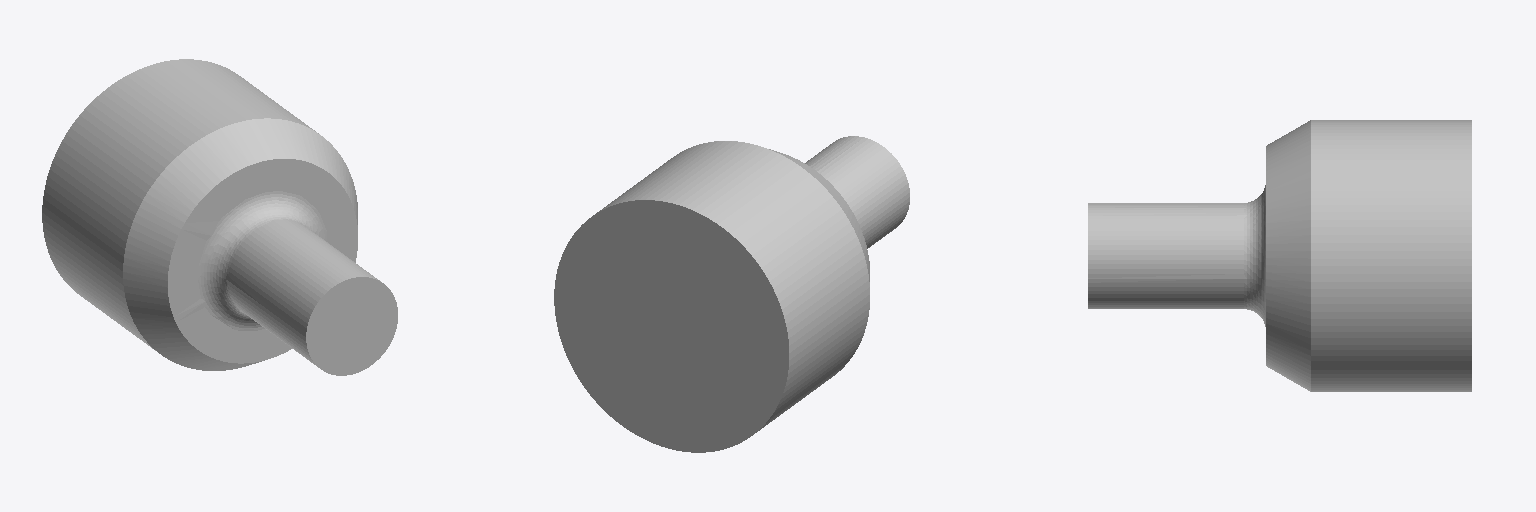
File: bulb.obj
The picture shows the model from 3 angles: view 1: azimuth 30°, elevation 25°; view 2: azimuth 150°, elevation 25°; view 3: azimuth 270°, elevation 25°; orthographic projection.
Visible parts, largest first — view 1: Object.1; view 2: Object.1; view 3: Object.1.
Boxes of the visible parts, x1,y1,x2,y2 form: Object.1: [42, 59, 397, 375]; Object.1: [554, 136, 909, 452]; Object.1: [1088, 120, 1471, 391].
Size of the model in its own units: 19.34 by 19.34 by 27.39.